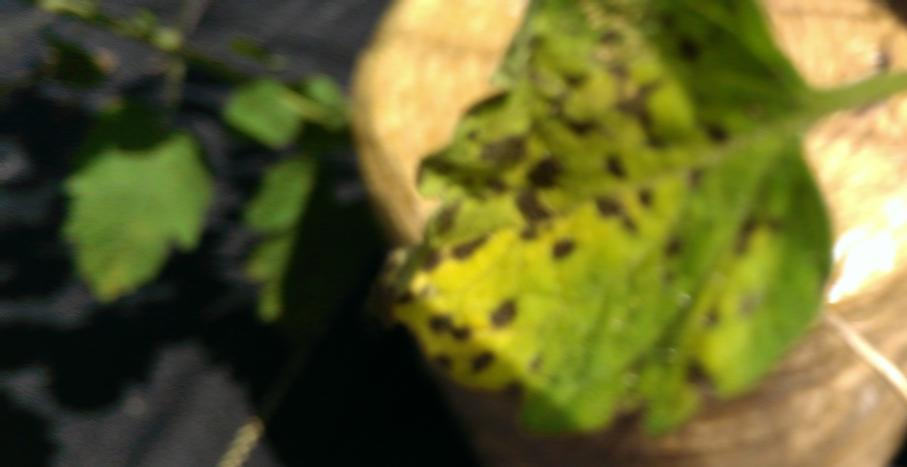Tomato Septoria leaf spot: (362, 0, 870, 467)
